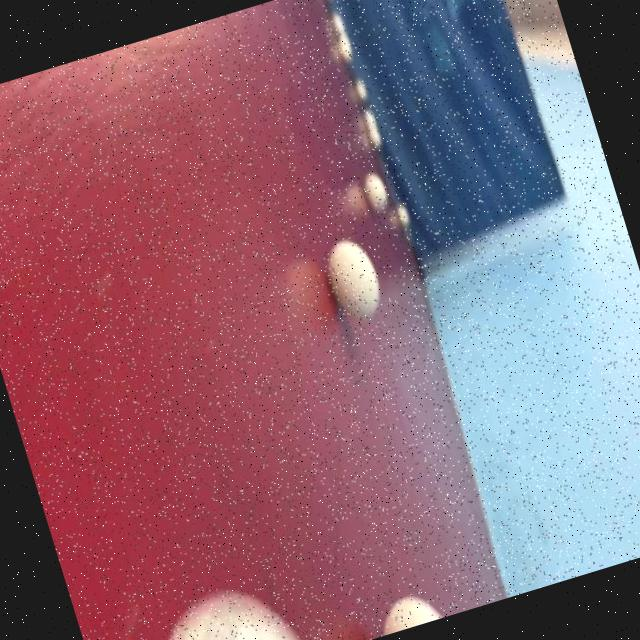ping-pong-ball: (96, 547, 315, 640), (308, 220, 405, 345), (352, 154, 398, 218)
